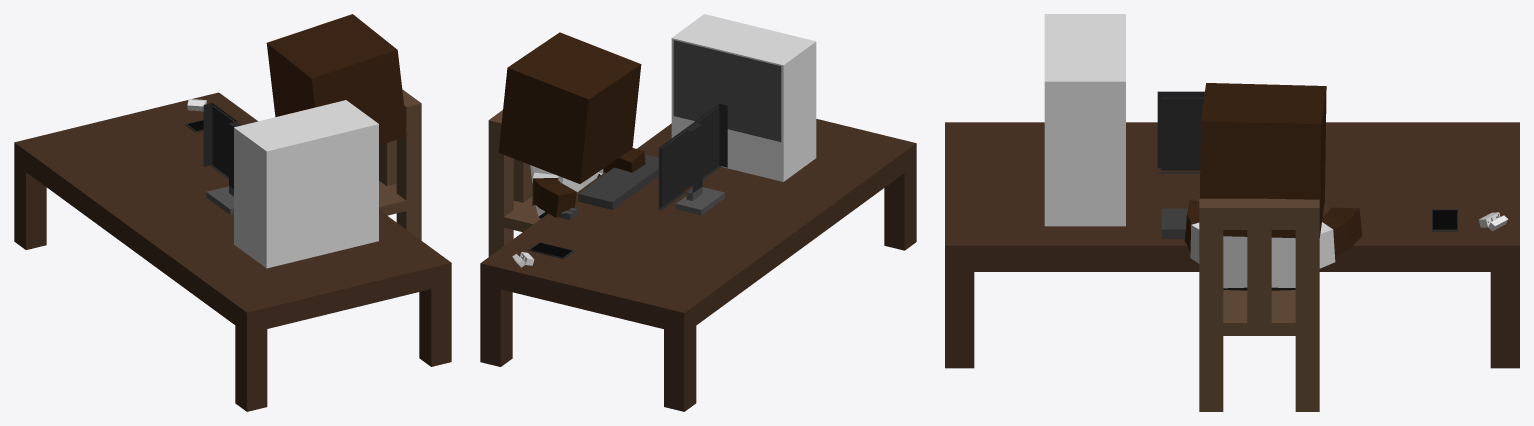
Rendered from PC Workstation.gltf.
The picture shows the model from 3 angles, left to right: view 1: azimuth 30°, elevation 25°; view 2: azimuth 150°, elevation 25°; view 3: azimuth 270°, elevation 25°; orthographic projection. The views are drawn at different scales.
Visible parts, largest first — view 1: Table, PC, Character, Chair, Monitor; view 2: Table, Character, PC, Monitor, Chair, Keyboard, Phone; view 3: Table, Character, Chair, PC, Monitor, Keyboard, Phone.
Boxes of the visible parts, bbox=[...] form: Table: bbox=[14, 92, 451, 411]; PC: bbox=[234, 100, 378, 268]; Character: bbox=[266, 14, 407, 145]; Chair: bbox=[379, 89, 421, 240]; Monitor: bbox=[203, 103, 242, 214]; Table: bbox=[480, 119, 916, 411]; Character: bbox=[498, 32, 645, 218]; PC: bbox=[671, 14, 816, 181]; Monitor: bbox=[658, 104, 727, 215]; Chair: bbox=[488, 110, 540, 256]; Keyboard: bbox=[578, 154, 658, 209]; Phone: bbox=[528, 242, 574, 259]; Table: bbox=[945, 122, 1519, 368]; Character: bbox=[1184, 83, 1362, 290]; Chair: bbox=[1199, 198, 1319, 411]; PC: bbox=[1044, 14, 1125, 226]; Monitor: bbox=[1157, 91, 1204, 173]; Keyboard: bbox=[1161, 208, 1187, 238]; Phone: bbox=[1431, 209, 1458, 231].
Size of the model in its own units: 2.8 by 2.16 by 4.06.
